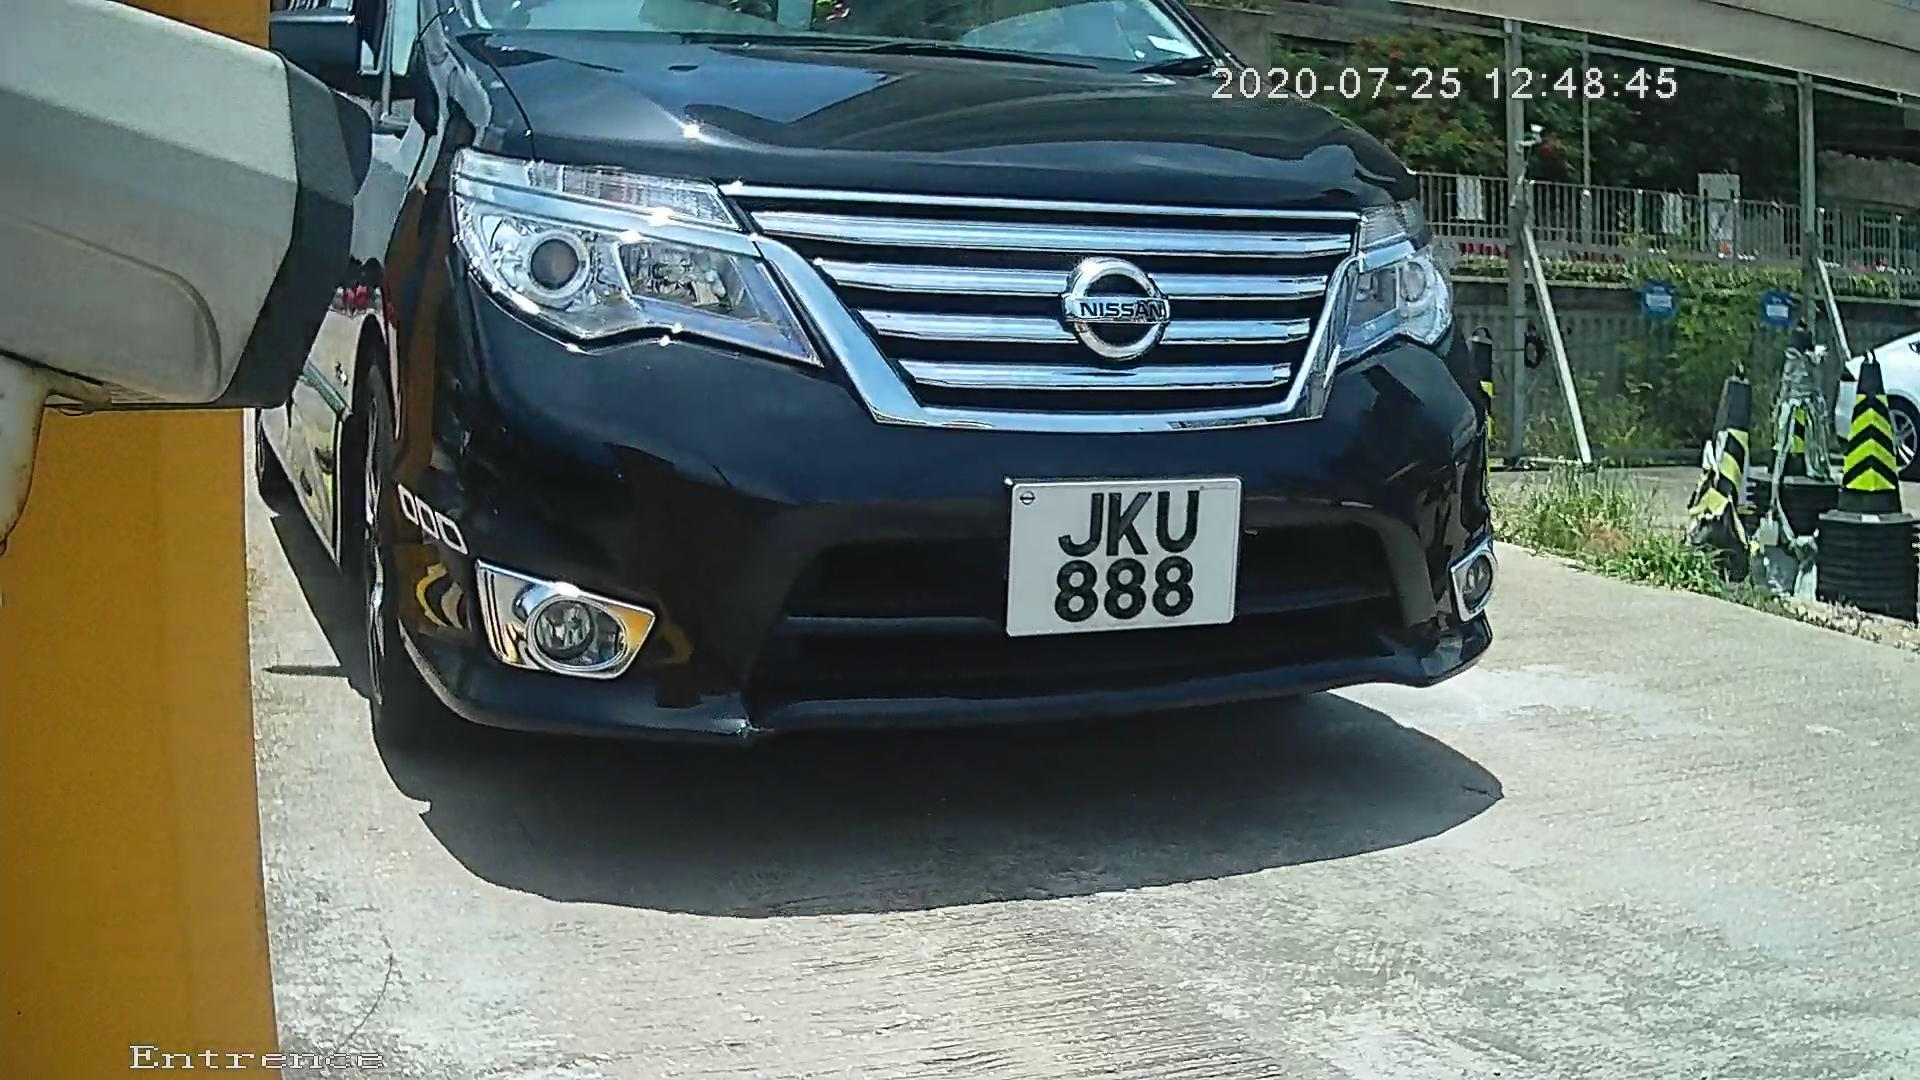Car: (121, 1, 1586, 873)
License Plate: (986, 454, 1252, 656)
